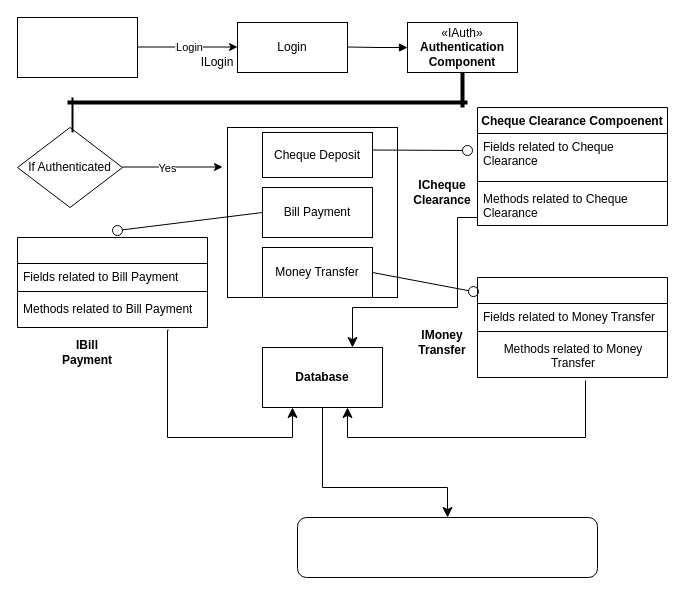
Image size: 685x595. Some labels were removed from this diagram. The box of each missing label's shape, as (x1, y1, x2, y2) in pixels:
Bill Payment Compoenent: (16, 236, 208, 328)
Customer: (16, 16, 138, 78)
Money Transfer Compoenent: (476, 276, 668, 378)
Send Notification to the User over Email/SMS: (296, 516, 598, 578)
